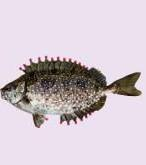fish: (0, 56, 141, 127)
